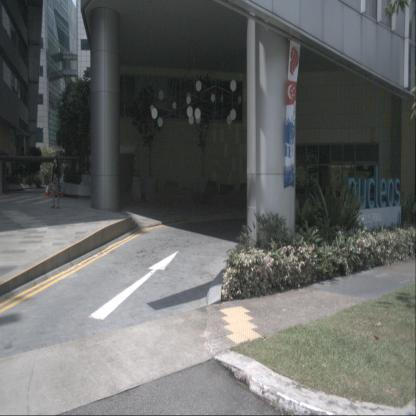human-pedestrian-adult: (50, 156, 62, 209)
